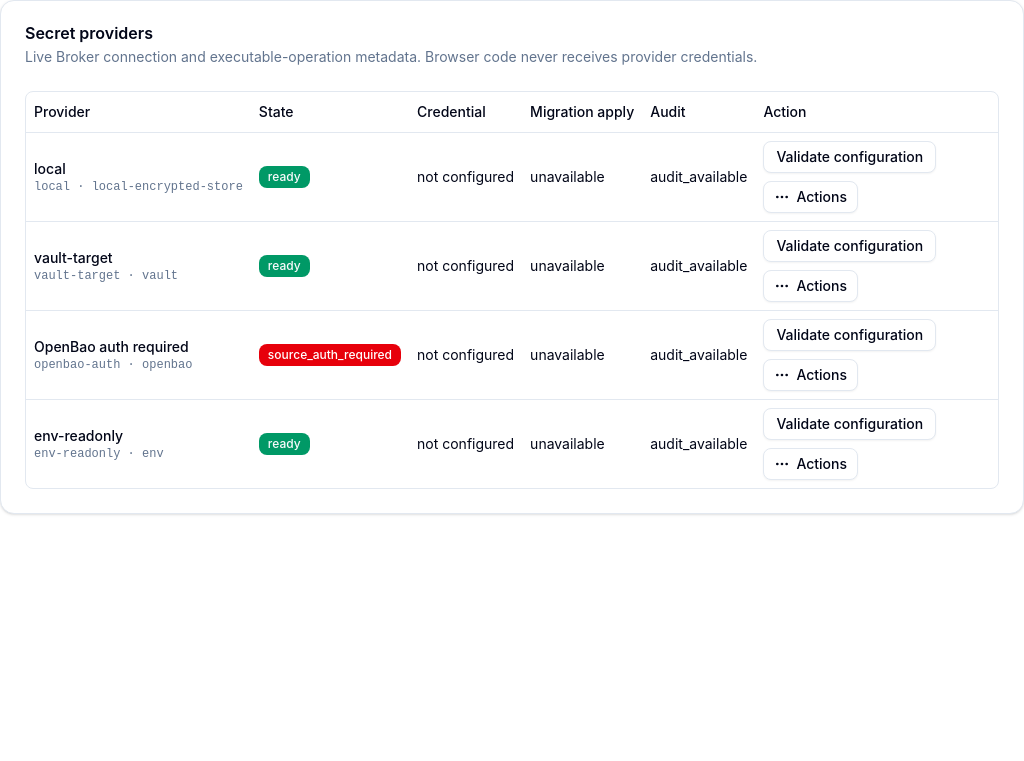
Test: Secrets Broker provider row actions › shows blocked auth-required on the clicked reconnect row
Click the button "Actions" in the row of "openbao-auth".
click(811, 374)  # box [763, 358, 858, 390]
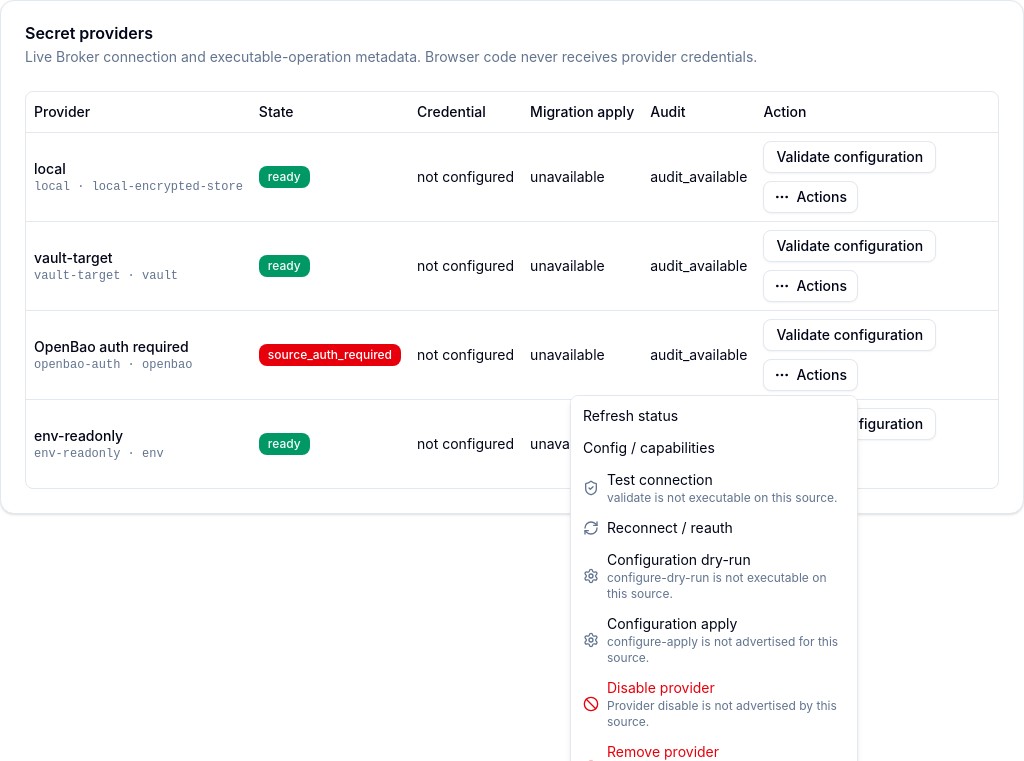
Click the menu item "Reconnect / reauth".
click(658, 528)  # box [583, 519, 733, 536]
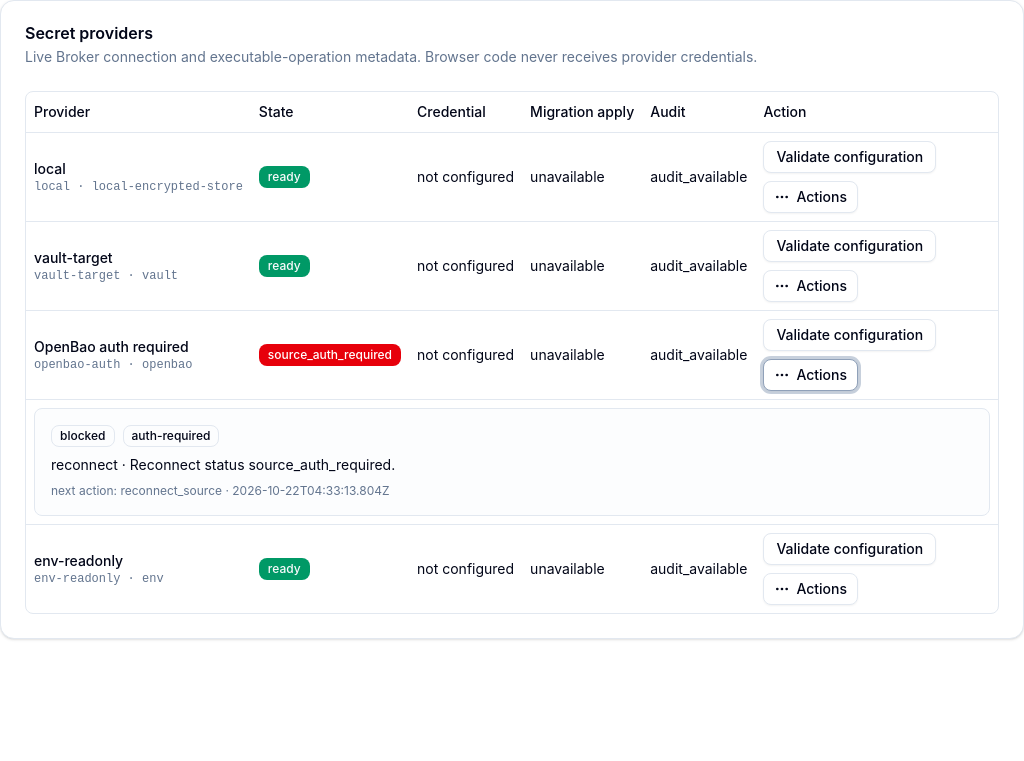
Result: the element with test id "provider-action-result-openbao-auth" shows "blocked" at [60, 428, 106, 442]
Result: the element with test id "provider-action-result-openbao-auth" shows "auth-required" at [132, 428, 210, 442]
Result: the element with test id "provider-action-result-openbao-auth" shows "reconnect_source" at [120, 482, 222, 498]
